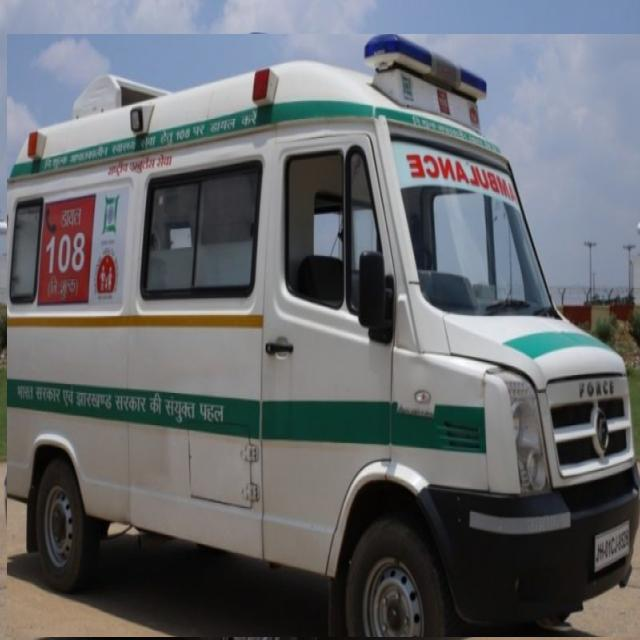emergency: (7, 34, 640, 637)
